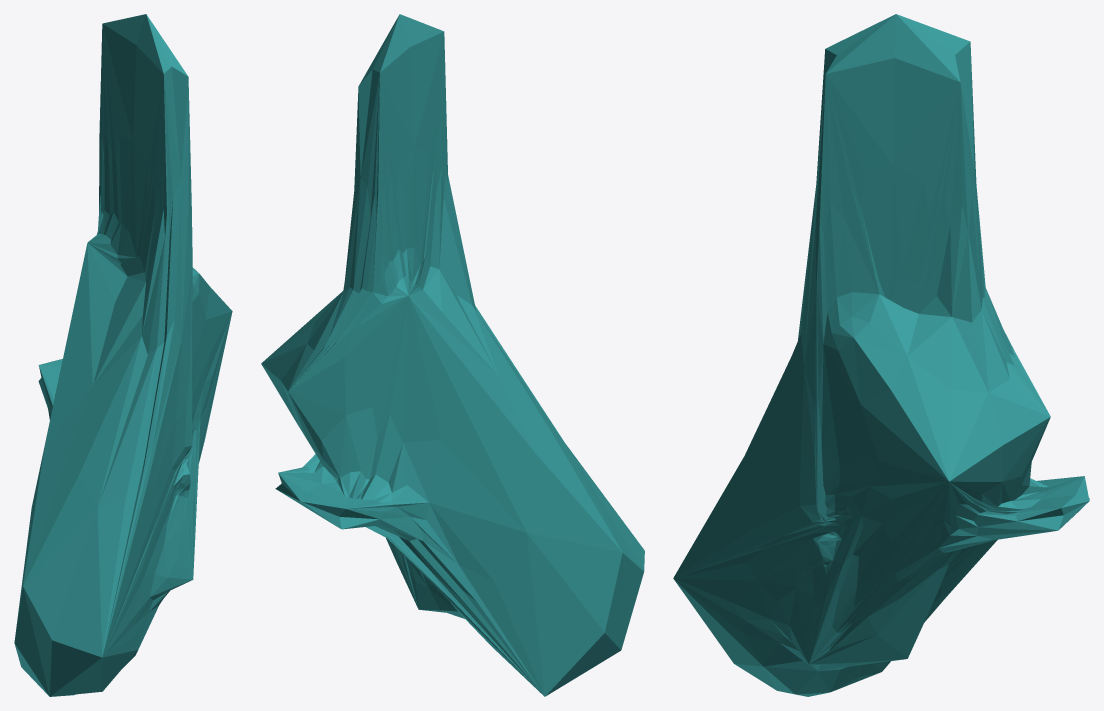
The picture shows the model from 3 angles, left to right: view 1: azimuth 30°, elevation 25°; view 2: azimuth 150°, elevation 25°; view 3: azimuth 270°, elevation 25°; orthographic projection. The views are drawn at different scales.
Parts seen in each view (by area): view 1: 627_Cube.2521; view 2: 627_Cube.2521; view 3: 627_Cube.2521.
Boxes of the visible parts, x1,y1,x2,y2 form: 627_Cube.2521: (14, 14, 232, 696); 627_Cube.2521: (261, 14, 644, 696); 627_Cube.2521: (673, 14, 1089, 696).
Bounding box in the file's own units: 8.33 × 18.13 × 9.17.
